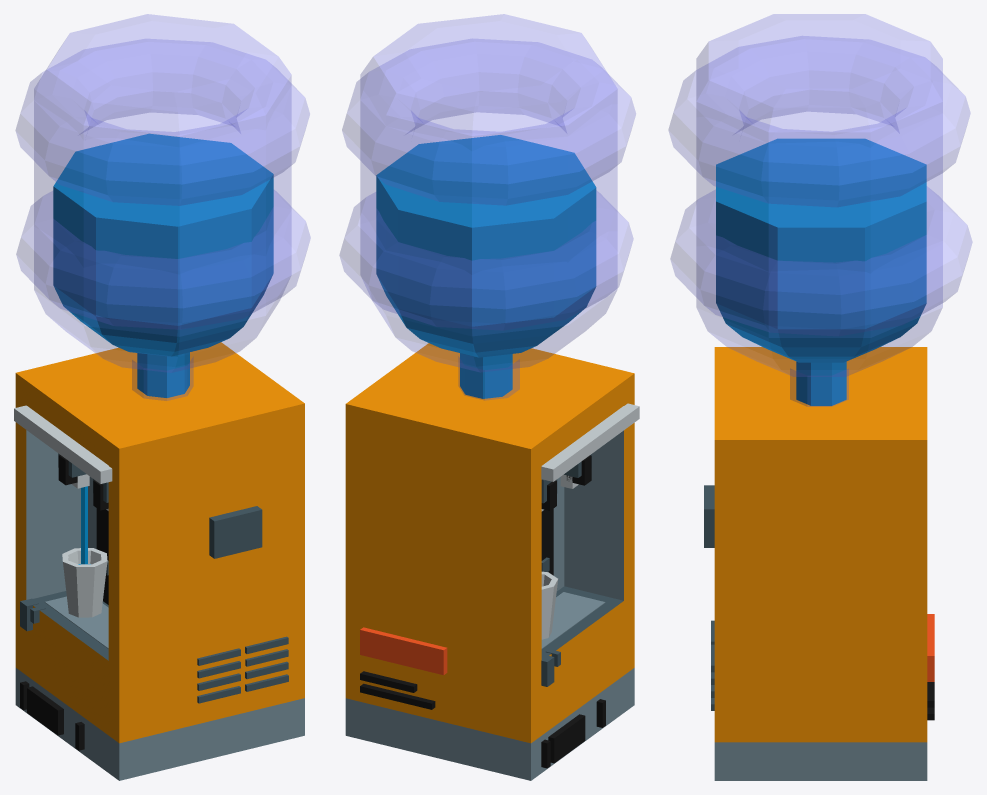
The picture shows the model from 3 angles, left to right: view 1: azimuth 30°, elevation 25°; view 2: azimuth 150°, elevation 25°; view 3: azimuth 270°, elevation 25°; orthographic projection. The views are drawn at different scales.
Visible parts, largest first — view 1: node_MeshObject550658048-PolyPaper21, node_MeshObject-2028071936-PolyGlass24; view 2: node_MeshObject550658048-PolyPaper21, node_MeshObject-2028071936-PolyGlass24; view 3: node_MeshObject550658048-PolyPaper21, node_MeshObject-2028071936-PolyGlass24.
Boxes of the visible parts, x1,y1,x2,y2 form: node_MeshObject550658048-PolyPaper21: [14, 133, 304, 780]; node_MeshObject-2028071936-PolyGlass24: [15, 14, 310, 400]; node_MeshObject550658048-PolyPaper21: [345, 135, 639, 780]; node_MeshObject-2028071936-PolyGlass24: [339, 14, 635, 400]; node_MeshObject550658048-PolyPaper21: [704, 138, 934, 780]; node_MeshObject-2028071936-PolyGlass24: [668, 14, 972, 406].
Size of the model in its own units: 0.429 by 1.06 by 0.429.
